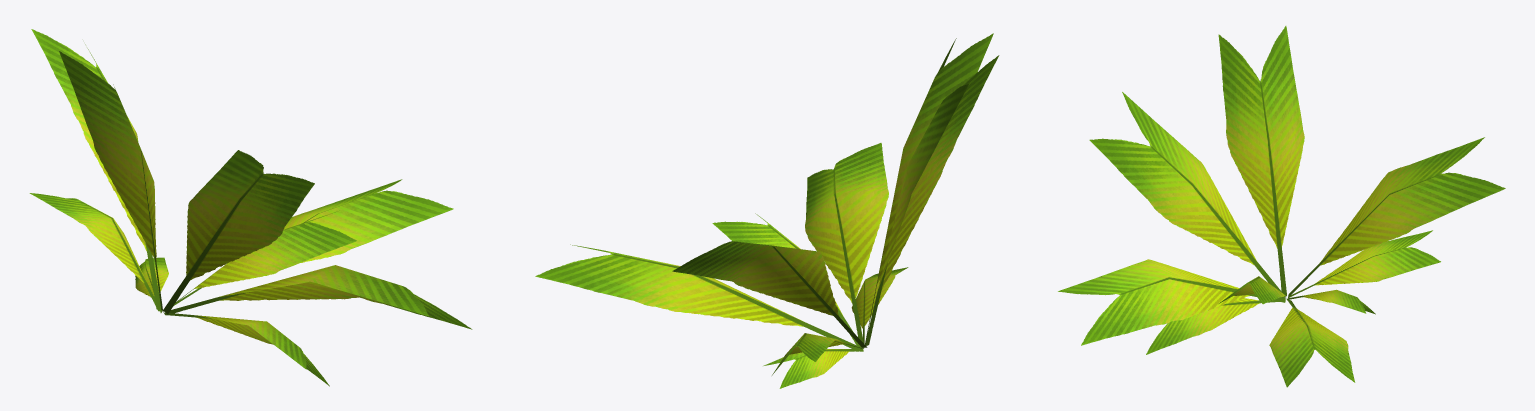
The model's file is Asplundia.fbx.
The picture shows the model from 3 angles, left to right: view 1: azimuth 30°, elevation 25°; view 2: azimuth 150°, elevation 25°; view 3: azimuth 270°, elevation 25°; orthographic projection. The views are drawn at different scales.
Parts seen in each view (by area): view 1: Asplundia; view 2: Asplundia; view 3: Asplundia.
Part boxes in pixels (left/top/right/bottom): Asplundia: left=29, top=29, right=472, bottom=386; Asplundia: left=535, top=33, right=999, bottom=388; Asplundia: left=1058, top=26, right=1505, bottom=387.
Size of the model in its own units: 84.24 by 66.96 by 103.
